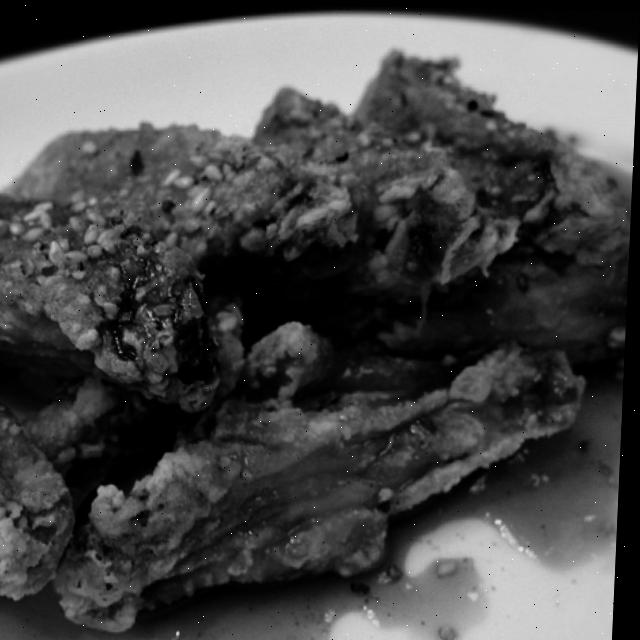鸡肉料理 含炸鸡: (0, 28, 633, 640)
